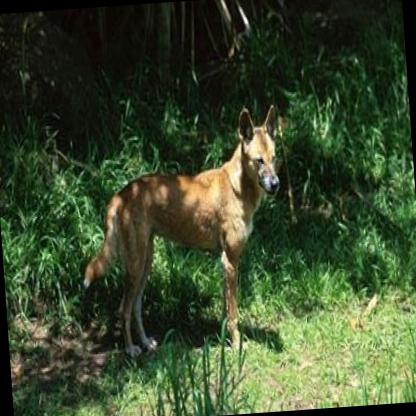dingo: (67, 100, 294, 364)
